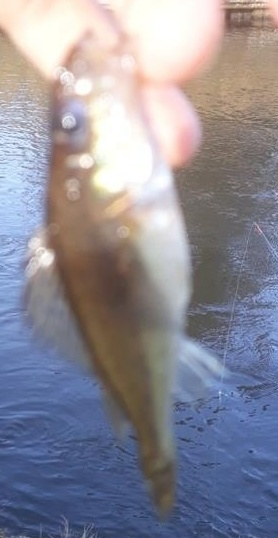Gymnocephalus cernuus: (20, 20, 258, 518)
